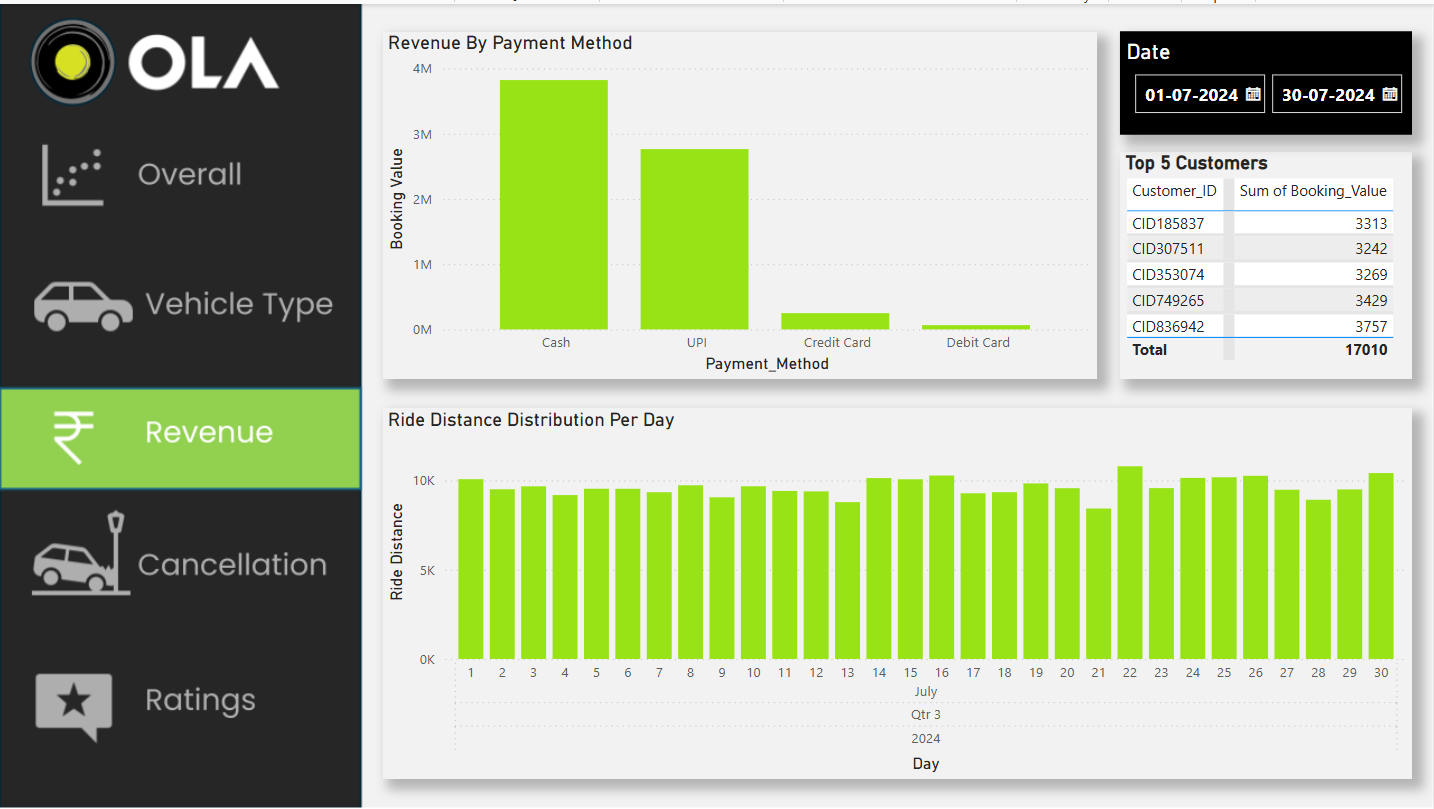

What the dashboard file says about the page in this screenshot:
{"tool":"powerbi","page":{"name":"Revenue","canvas":[1280,720],"ordinal":2},"visuals":[{"type":"actionButton","box":[0,446.7,323.8,92.7],"z":0},{"type":"actionButton","box":[0,112.8,323.8,82.6],"z":1000},{"type":"actionButton","box":[0,221.1,323.8,91.6],"z":2000},{"type":"actionButton","box":[0,580.6,323.8,86],"z":3000},{"type":"columnChart","title":"Revenue By Payment Method","fields":{"Y":["Sum(Bookings-20000-Rows xlsx - July.Booking_Value)"],"Category":["Bookings-20000-Rows xlsx - July.Payment_Method"]},"box":[341.7,24.7,638.1,310.1],"z":4000},{"type":"columnChart","title":"Ride Distance Distribution Per Day","fields":{"Category":["Bookings-20000-Rows xlsx - July.Date.Variation.Date Hierarchy.Year","Bookings-20000-Rows xlsx - July.Date.Variation.Date Hierarchy.Quarter","Bookings-20000-Rows xlsx - July.Date.Variation.Date Hierarchy.Month","Bookings-20000-Rows xlsx - July.Date.Variation.Date Hierarchy.Day"],"Y":["Sum(Bookings-20000-Rows xlsx - July.Ride_Distance)"]},"box":[341.9,360.5,919.8,331.4],"z":5000},{"type":"slicer","title":"Date","fields":{"Values":["Bookings-20000-Rows xlsx - July.Date"]},"box":[1000.3,24.7,260.7,91.9],"z":6000},{"type":"tableEx","title":"Top 5 Customers","fields":{"Values":["Bookings-20000-Rows xlsx - July.Customer_ID","Sum(Bookings-20000-Rows xlsx - July.Booking_Value)"]},"box":[1000.3,131.7,260.7,203.1],"z":7000}]}

Visuals, with their boxes on the page's 1280x720 design canvas (x1, y1, x2, y2). These are canvas units, not pixel positions in the 1434x809 screenshot, which may show the page scaled, cropped or inside an application window:
actionButton: {"left": 0, "top": 447, "right": 324, "bottom": 539}
actionButton: {"left": 0, "top": 113, "right": 324, "bottom": 195}
actionButton: {"left": 0, "top": 221, "right": 324, "bottom": 313}
actionButton: {"left": 0, "top": 581, "right": 324, "bottom": 667}
"Revenue By Payment Method" columnChart: {"left": 342, "top": 25, "right": 980, "bottom": 335}
"Ride Distance Distribution Per Day" columnChart: {"left": 342, "top": 360, "right": 1262, "bottom": 692}
"Date" slicer: {"left": 1000, "top": 25, "right": 1261, "bottom": 117}
"Top 5 Customers" tableEx: {"left": 1000, "top": 132, "right": 1261, "bottom": 335}
